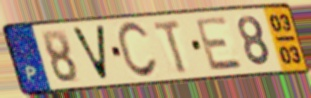8: (41, 28, 80, 85), (237, 15, 273, 68)
C: (114, 19, 160, 81)
E: (193, 15, 246, 73)
T: (151, 18, 191, 76)
V: (69, 24, 111, 83)
